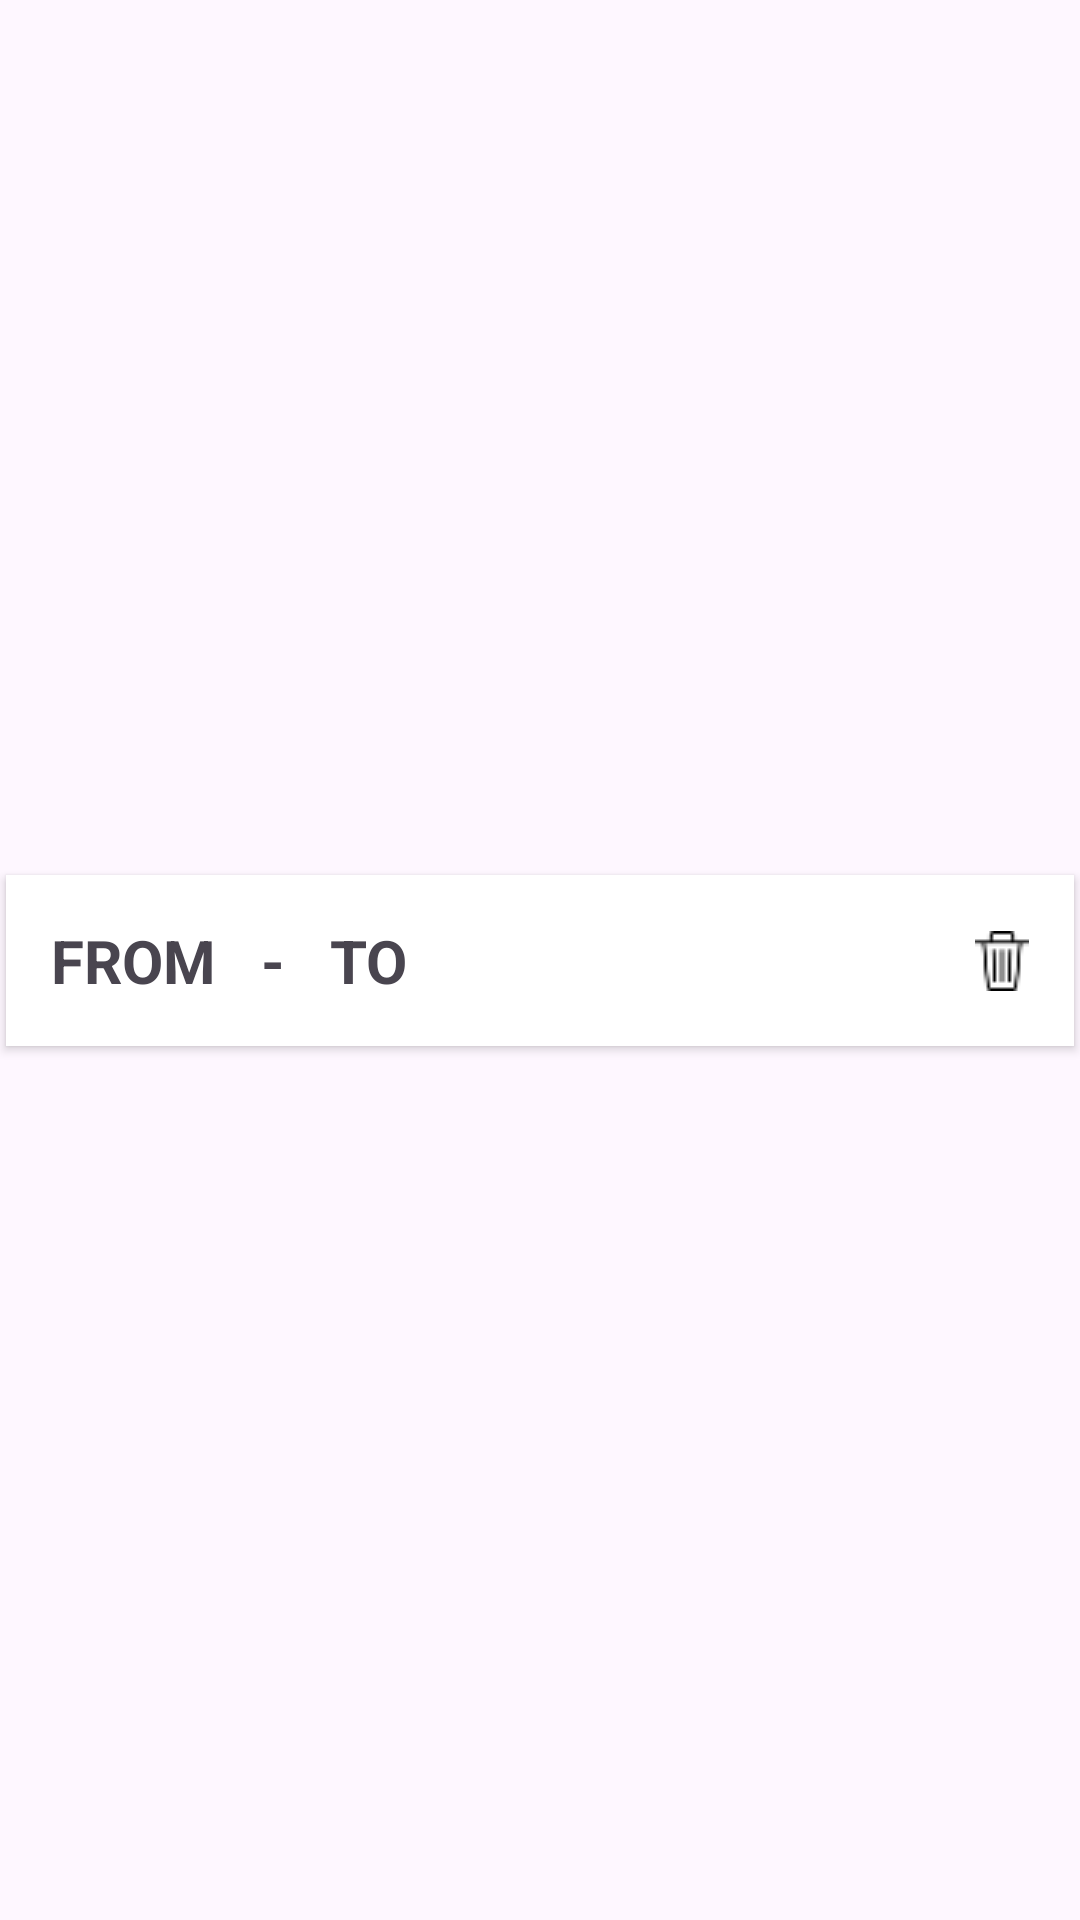

Icons on this 1080×1920 Android screen, each with its box as {"x1": x1, "y1": y1, "x2": x2, "y2": y2}:
trash: {"x1": 975, "y1": 931, "x2": 1029, "y2": 991}
